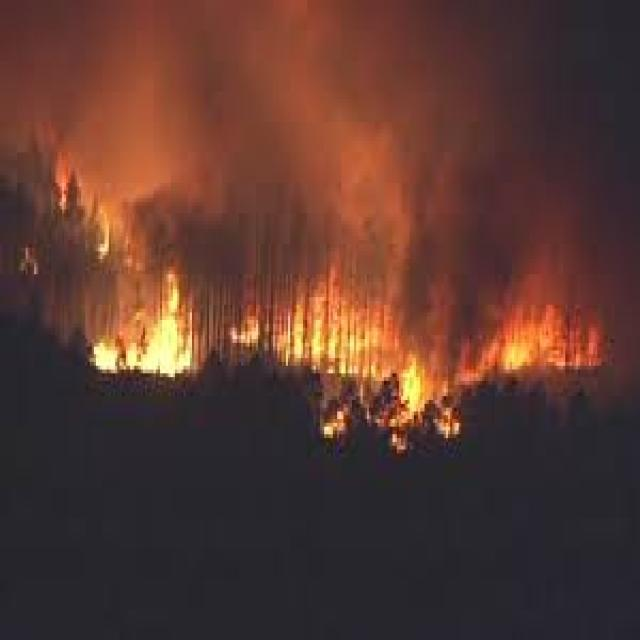Fire: (241, 272, 422, 380), (452, 309, 600, 432), (48, 120, 134, 276), (92, 272, 196, 381), (326, 376, 412, 450), (403, 360, 438, 417)
Smoke: (177, 0, 638, 225)
